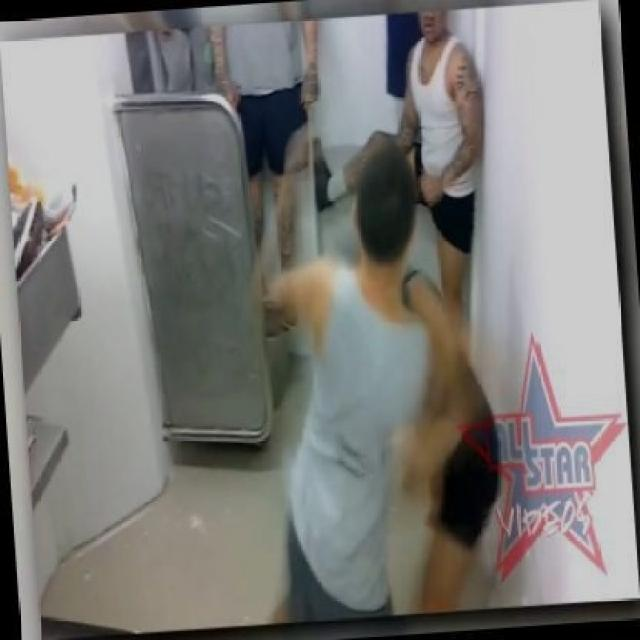fight: (257, 149, 514, 634)
non-fight: (312, 5, 503, 312)
